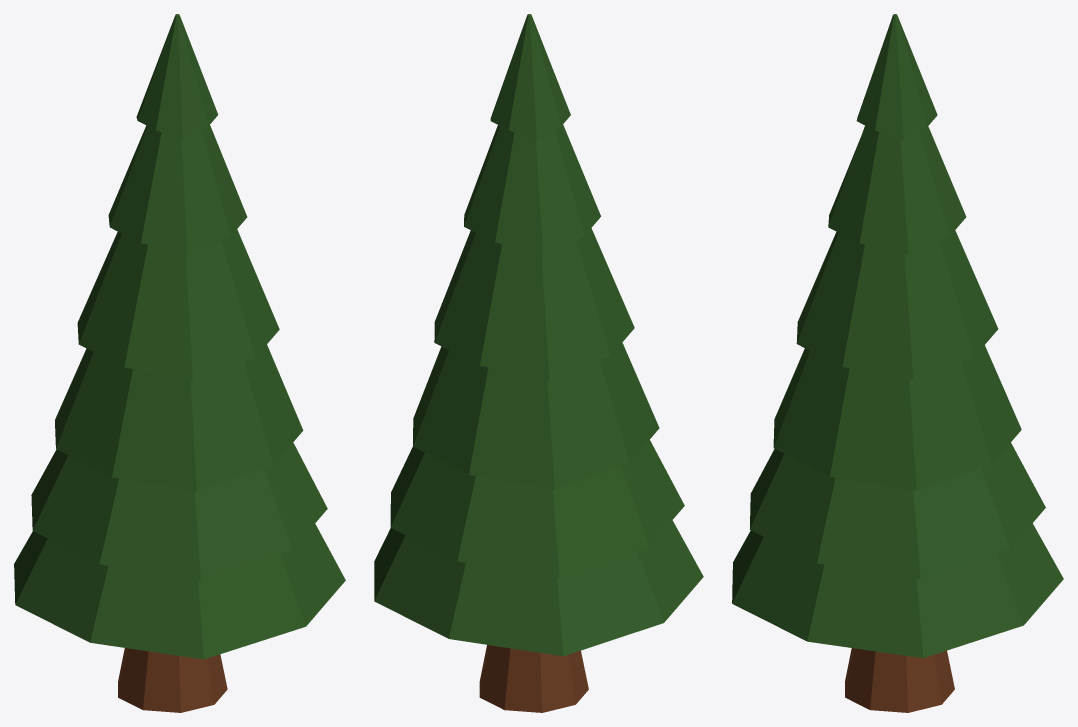
File: low_poly_tree_1.glb
3 views of the same model, side by side, from view 1: azimuth 30°, elevation 25°; view 2: azimuth 150°, elevation 25°; view 3: azimuth 270°, elevation 25° (orthographic).
Parts seen in each view (by area): view 1: low_poly_tree_1; view 2: low_poly_tree_1; view 3: low_poly_tree_1.
Boxes of the visible parts, box(x1,y1,x2,y2) form: low_poly_tree_1: box(14, 14, 345, 712); low_poly_tree_1: box(374, 14, 703, 712); low_poly_tree_1: box(732, 14, 1063, 712).
Bounding box in the file's own units: 2.31 × 5.12 × 2.28.
